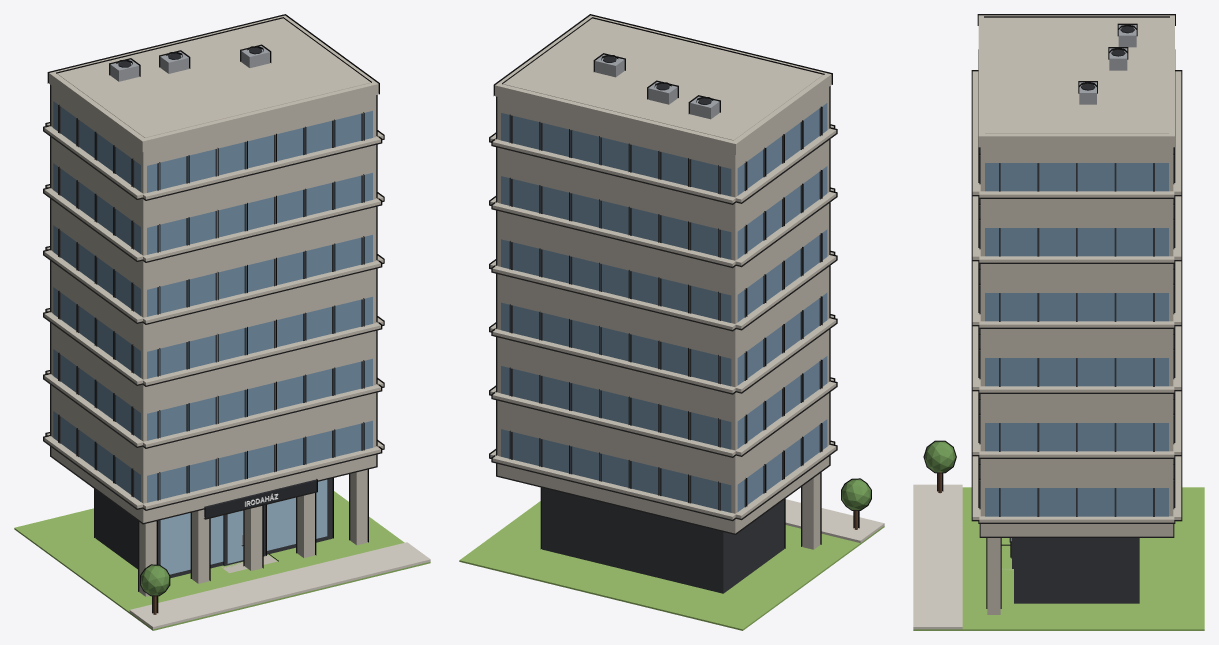
Rendered from Buro_yetmisler_1.fbx.
3 views of the same model, side by side, from view 1: azimuth 30°, elevation 25°; view 2: azimuth 150°, elevation 25°; view 3: azimuth 270°, elevation 25° (orthographic). The views are drawn at different scales.
Visible parts, largest first — view 1: Buro_yetmisler_1; view 2: Buro_yetmisler_1; view 3: Buro_yetmisler_1.
Part boxes in pixels (x1,y1,x2,y2): Buro_yetmisler_1: (14, 14, 430, 630); Buro_yetmisler_1: (459, 14, 884, 630); Buro_yetmisler_1: (913, 14, 1204, 630).
Size of the model in its own units: 15 by 24.61 by 13.
